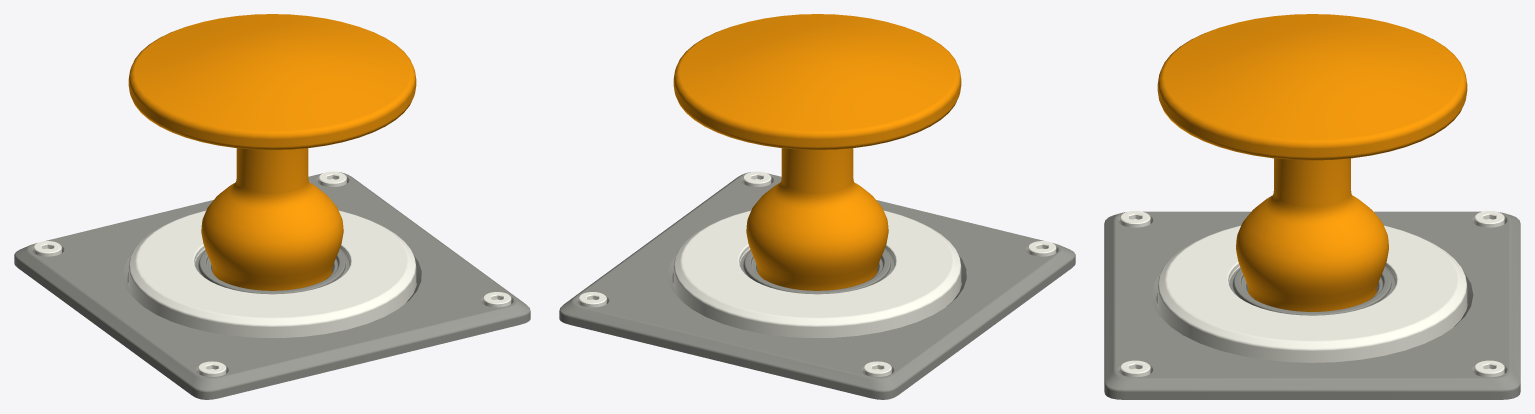
Rendered from Joystick #5.fbx.
3 views of the same model, side by side, from view 1: azimuth 30°, elevation 25°; view 2: azimuth 150°, elevation 25°; view 3: azimuth 270°, elevation 25° (orthographic). The views are drawn at different scales.
Parts seen in each view (by area): view 1: kitbash_79; view 2: kitbash_79; view 3: kitbash_79.
Boxes of the visible parts, x1,y1,x2,y2 form: kitbash_79: [14, 14, 530, 399]; kitbash_79: [559, 14, 1075, 399]; kitbash_79: [1104, 14, 1520, 399].
Bounding box in the file's own units: 14.83 × 10.09 × 14.83.
